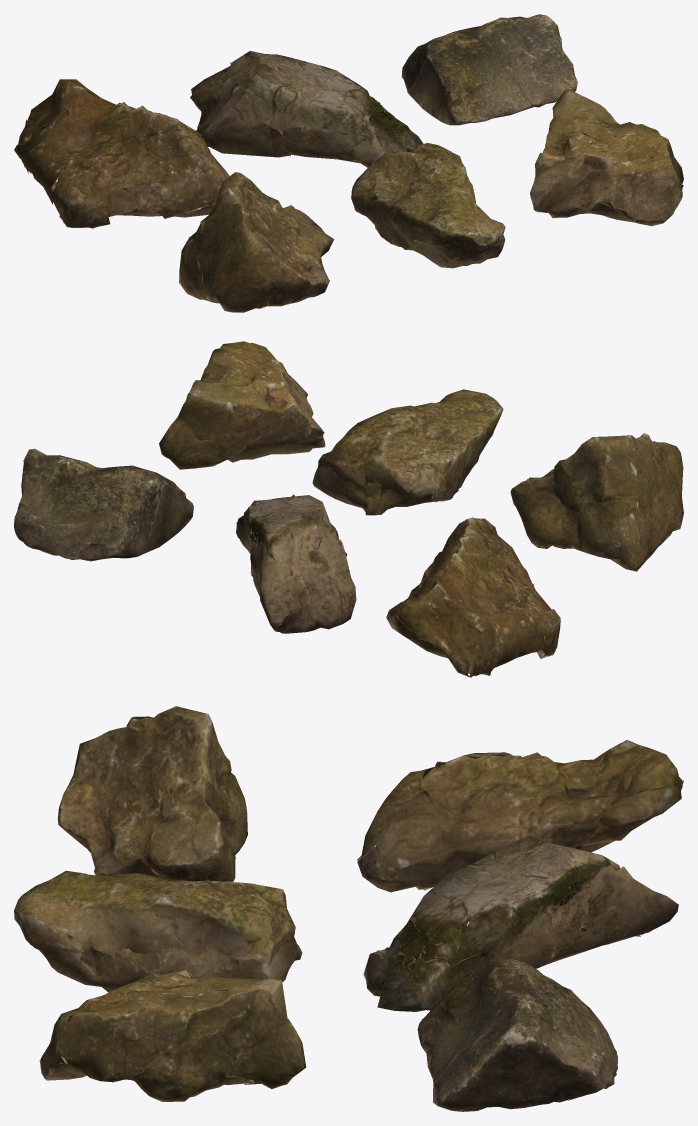
The model's file is creek_rocks_lod.glb.
The picture shows the model from 3 angles, top to bottom: view 1: azimuth 30°, elevation 25°; view 2: azimuth 150°, elevation 25°; view 3: azimuth 270°, elevation 25°; orthographic projection. The views are drawn at different scales.
Visible parts, largest first — view 1: rock_moss_set_01_rock01, rock_moss_set_01_rock02, rock_moss_set_01_rock06, rock_moss_set_01_rock04, rock_moss_set_01_rock03, rock_moss_set_01_rock05; view 2: rock_moss_set_01_rock04, rock_moss_set_01_rock01, rock_moss_set_01_rock05, rock_moss_set_01_rock03, rock_moss_set_01_rock06, rock_moss_set_01_rock02; view 3: rock_moss_set_01_rock01, rock_moss_set_01_rock02, rock_moss_set_01_rock05, rock_moss_set_01_rock04, rock_moss_set_01_rock06, rock_moss_set_01_rock03.
Boxes of the visible parts, bbox=[...] form: rock_moss_set_01_rock01: bbox=[14, 79, 229, 228]; rock_moss_set_01_rock02: bbox=[190, 51, 423, 167]; rock_moss_set_01_rock06: bbox=[530, 89, 683, 226]; rock_moss_set_01_rock04: bbox=[179, 172, 334, 312]; rock_moss_set_01_rock03: bbox=[401, 14, 577, 125]; rock_moss_set_01_rock05: bbox=[351, 143, 505, 268]; rock_moss_set_01_rock04: bbox=[510, 433, 683, 571]; rock_moss_set_01_rock01: bbox=[386, 517, 560, 677]; rock_moss_set_01_rock05: bbox=[312, 389, 503, 515]; rock_moss_set_01_rock03: bbox=[14, 448, 193, 561]; rock_moss_set_01_rock06: bbox=[159, 341, 325, 469]; rock_moss_set_01_rock02: bbox=[236, 494, 356, 633]; rock_moss_set_01_rock01: bbox=[357, 740, 683, 892]; rock_moss_set_01_rock02: bbox=[363, 835, 678, 1011]; rock_moss_set_01_rock05: bbox=[14, 870, 302, 992]; rock_moss_set_01_rock04: bbox=[57, 706, 247, 881]; rock_moss_set_01_rock06: bbox=[39, 969, 306, 1101]; rock_moss_set_01_rock03: bbox=[417, 956, 617, 1111].
Size of the model in its own units: 8.02 by 1.77 by 6.95.
1 material, 1 textured.
